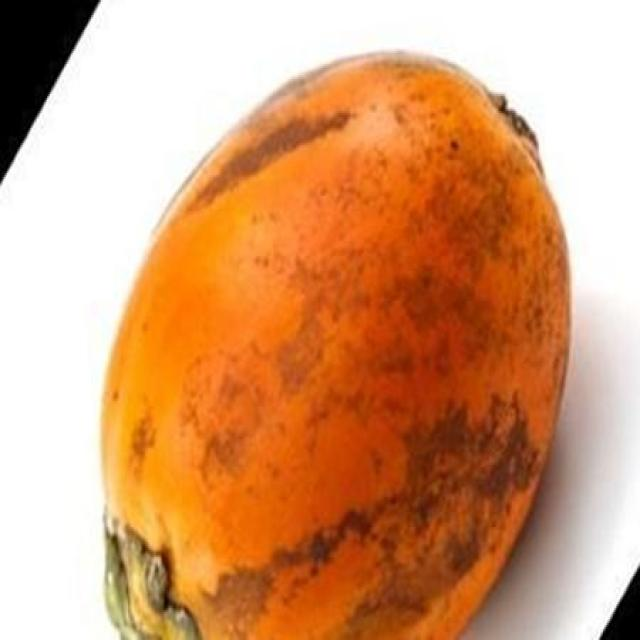good: (97, 55, 572, 638)
